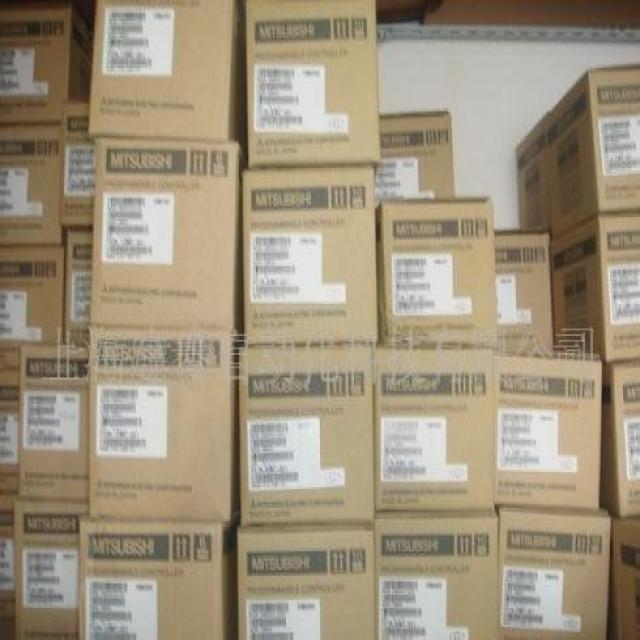Carton: (239, 345, 600, 638), (86, 0, 236, 328), (244, 0, 455, 194), (91, 328, 236, 525), (243, 164, 374, 342), (515, 66, 639, 238), (381, 198, 499, 342), (80, 521, 221, 638), (239, 531, 375, 638), (552, 217, 639, 362), (503, 515, 607, 636), (0, 6, 71, 121), (1, 130, 61, 247), (1, 251, 63, 355)
